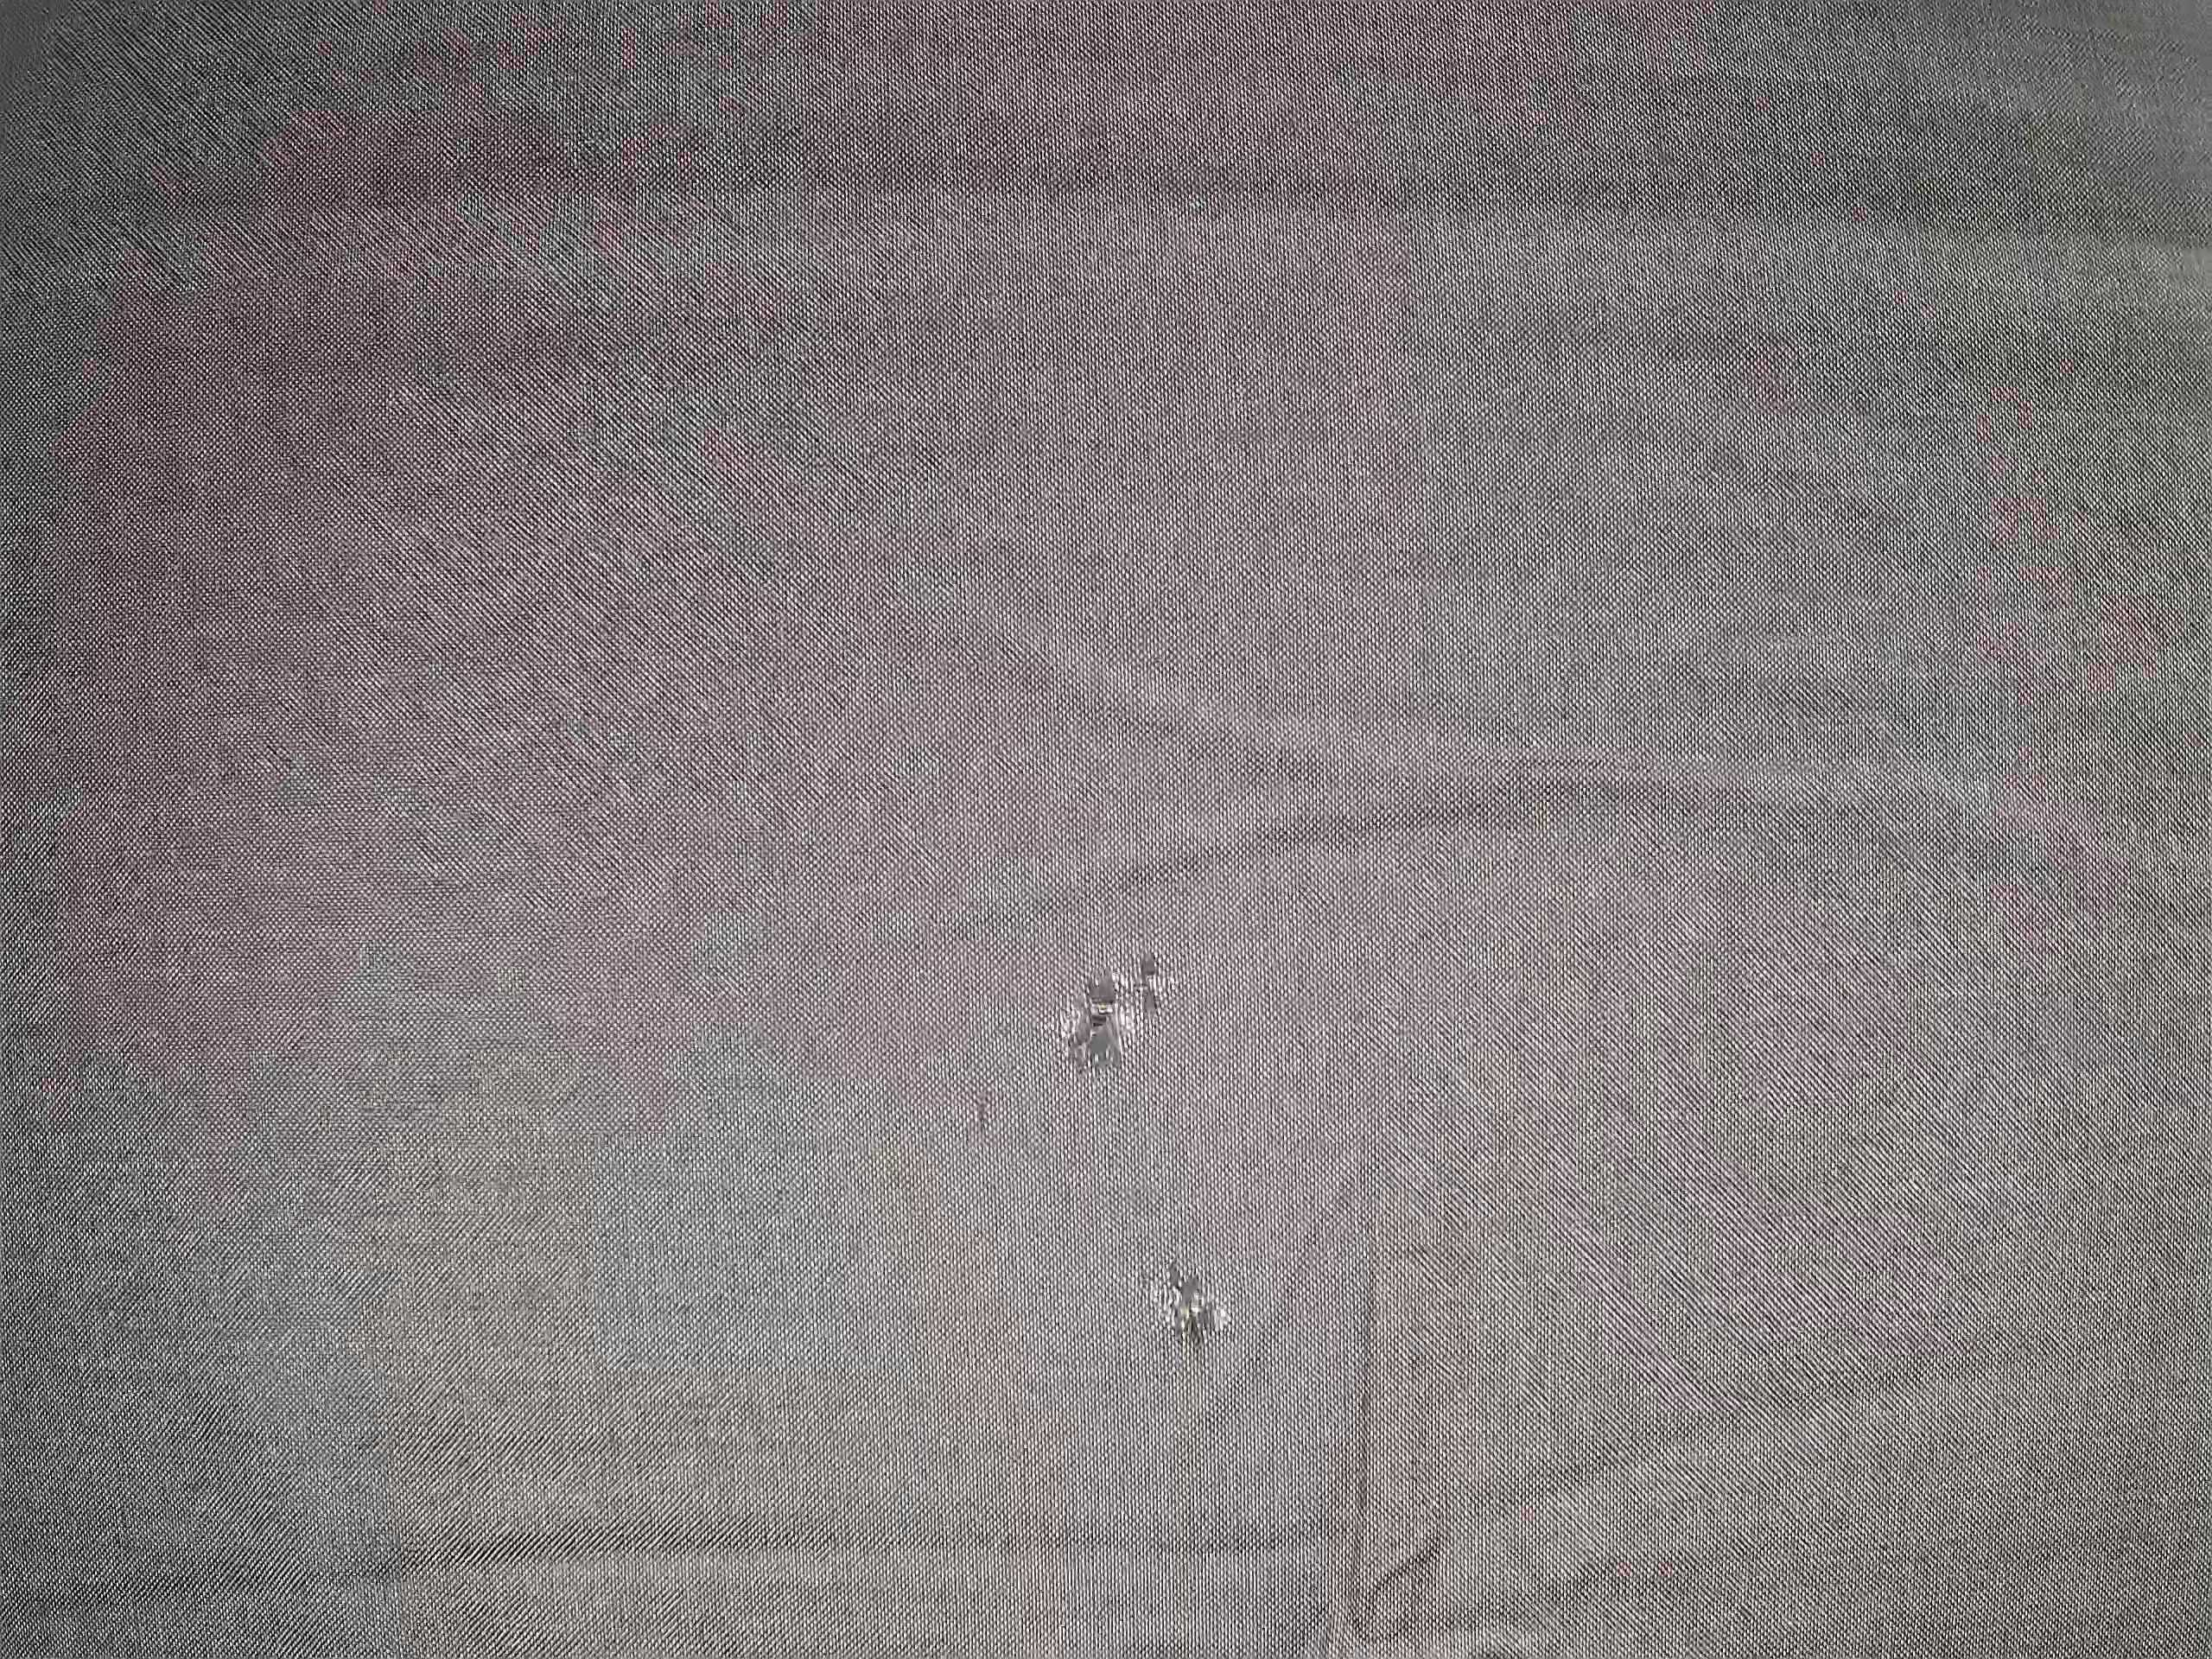brushed-hole: (1040, 931, 1190, 1096), (1141, 1249, 1242, 1370)
